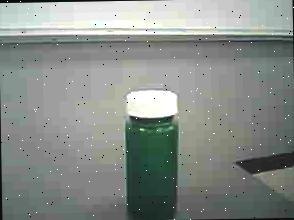Bottle C: (110, 84, 188, 220)
